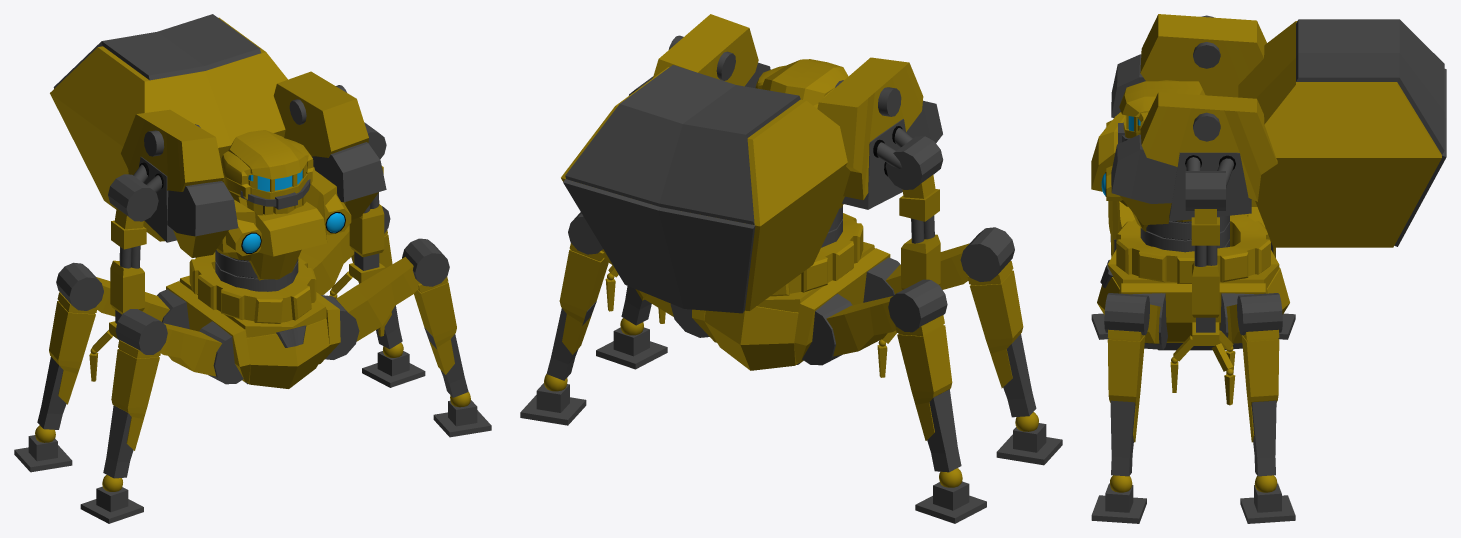
Rendered from workermech (1).fbx.
3 renders of one model, left to right at view 1: azimuth 30°, elevation 25°; view 2: azimuth 150°, elevation 25°; view 3: azimuth 270°, elevation 25°, orthographic. The views are drawn at different scales.
Parts seen in each view (by area): view 1: Cube.062, Cube.086, Cube.074, Cube.075, Cube.099, Cube.085, Cube.071, Cylinder.009, Cube.080, Cube.072, Cube.087, Cube.077 (+17 smaller); view 2: Cube.099, Cube.062, Cube.100, Cube.086, Cube.074, Cube.071, Cube.072, Cylinder.009, Cube.077, Cube.075, Cylinder.010, Cube.078 (+10 smaller); view 3: Cube.062, Cube.086, Cube.099, Cube.074, Cube.080, Cube.085, Cube.071, Cube.072, Cylinder.009, Cube.078, Cube.083, Cylinder.007 (+14 smaller).
Part boxes in pixels (bbox=[...]): Cube.062: bbox=[50, 17, 287, 241]; Cube.086: bbox=[121, 71, 368, 191]; Cube.074: bbox=[49, 230, 456, 450]; Cube.075: bbox=[96, 225, 420, 376]; Cube.099: bbox=[53, 14, 260, 88]; Cube.085: bbox=[167, 142, 386, 236]; Cube.071: bbox=[14, 351, 491, 523]; Cylinder.009: bbox=[56, 206, 449, 354]; Cube.080: bbox=[189, 252, 316, 323]; Cube.072: bbox=[37, 283, 468, 478]; Cube.087: bbox=[217, 167, 337, 256]; Cube.077: bbox=[246, 318, 329, 388]; Cube.099: bbox=[565, 65, 800, 224]; Cube.062: bbox=[561, 67, 850, 310]; Cube.100: bbox=[563, 179, 755, 313]; Cube.086: bbox=[653, 14, 923, 200]; Cube.074: bbox=[559, 243, 1023, 440]; Cube.071: bbox=[520, 327, 1062, 523]; Cube.072: bbox=[546, 286, 1036, 472]; Cylinder.009: bbox=[568, 212, 1014, 332]; Cube.077: bbox=[704, 306, 798, 370]; Cube.075: bbox=[601, 243, 969, 356]; Cylinder.010: bbox=[670, 257, 900, 365]; Cube.078: bbox=[692, 248, 890, 362]; Cube.062: bbox=[1238, 21, 1441, 247]; Cube.086: bbox=[1140, 14, 1277, 201]; Cube.099: bbox=[1296, 19, 1444, 154]; Cube.074: bbox=[1107, 201, 1279, 442]; Cube.080: bbox=[1116, 214, 1270, 283]; Cube.085: bbox=[1111, 54, 1177, 203]; Cube.071: bbox=[1091, 313, 1295, 523]; Cube.072: bbox=[1110, 236, 1276, 476]; Cylinder.009: bbox=[1104, 293, 1282, 335]; Cube.078: bbox=[1119, 283, 1267, 341]; Cube.083: bbox=[1169, 152, 1251, 221]; Cylinder.007: bbox=[1140, 215, 1229, 252].
Size of the model in its own units: 212 by 177 by 153.
